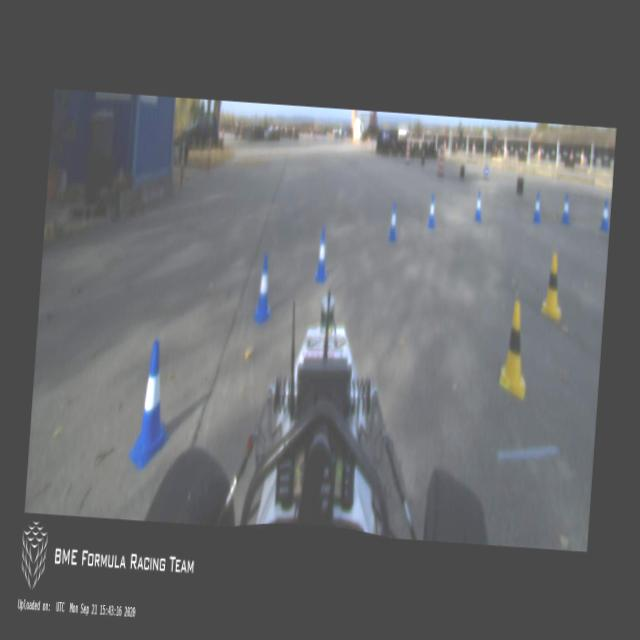blue_cone: (129, 336, 175, 469), (252, 256, 274, 322), (312, 229, 330, 282), (388, 202, 398, 242), (427, 193, 438, 228), (472, 188, 484, 220), (531, 192, 543, 224), (598, 198, 610, 230), (560, 194, 571, 224)
yellow_cone: (497, 301, 531, 397), (541, 252, 564, 318)
